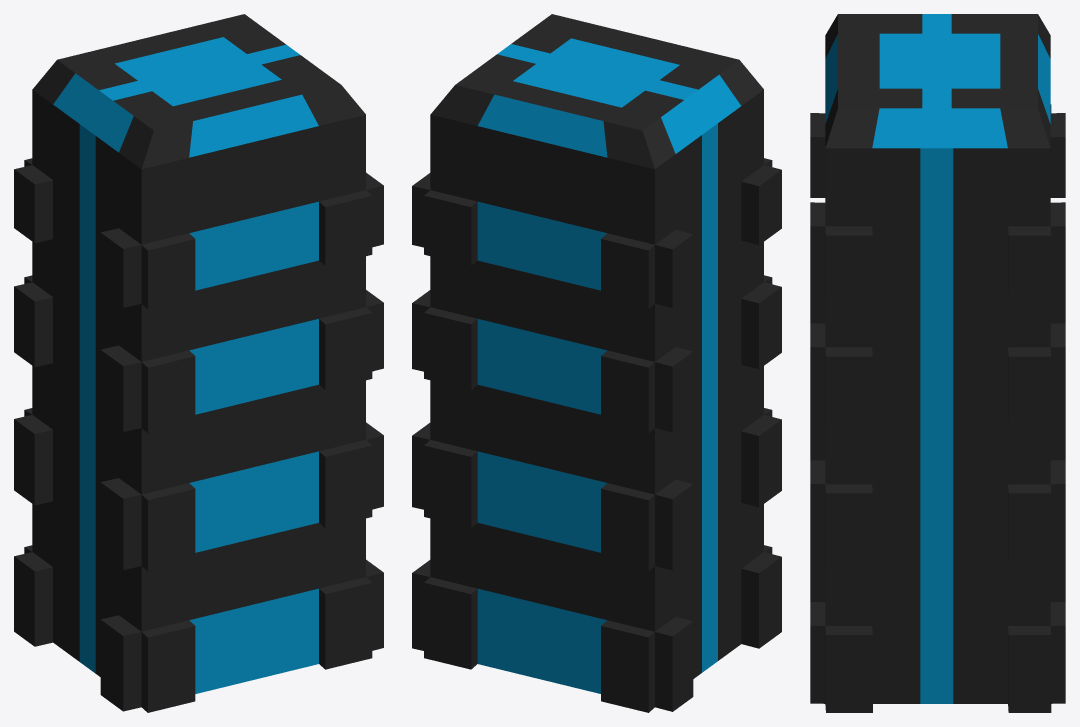
The model's file is MedBuildingNeon02.fbx.
3 renders of one model, left to right at view 1: azimuth 30°, elevation 25°; view 2: azimuth 150°, elevation 25°; view 3: azimuth 270°, elevation 25°, orthographic. The views are drawn at different scales.
Visible parts, largest first — view 1: MedBuildingNeon02; view 2: MedBuildingNeon02; view 3: MedBuildingNeon02.
Part boxes in pixels (box(x1,y1,x2,y2)): MedBuildingNeon02: box(14, 14, 383, 712); MedBuildingNeon02: box(412, 14, 781, 712); MedBuildingNeon02: box(810, 14, 1065, 712).
Bounding box in the file's own units: 1.04 × 2.16 × 0.8504.
